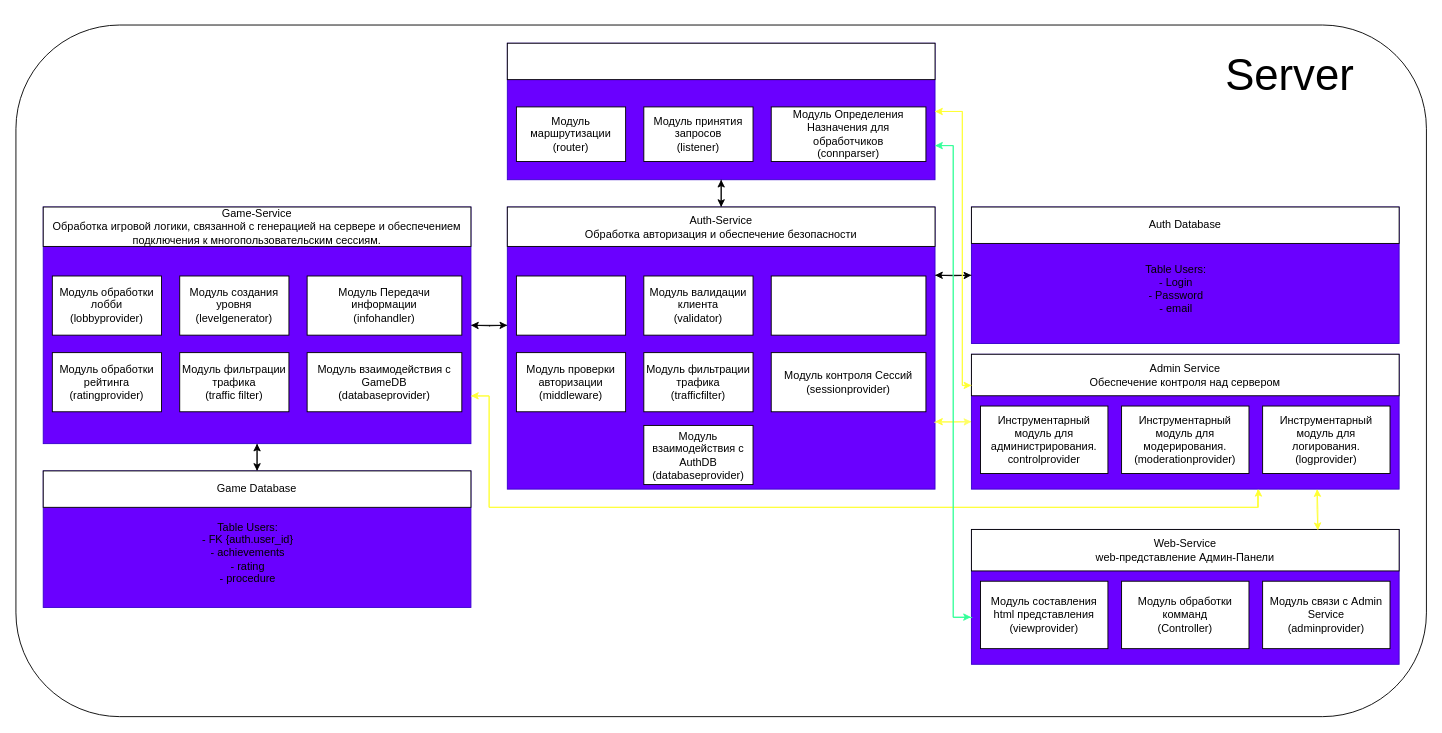
The diagram is 1442 pixels wide and 733 high, and some of its shapes have lost their labels. The shapes that lost their labels are listed below. From the top down, each one's centre as x and y in pixels, then its label:
the point at 571,305: Модуль Авторизации (auth)
the point at 848,305: Модуль генерации Токена (jwtgenerator)
